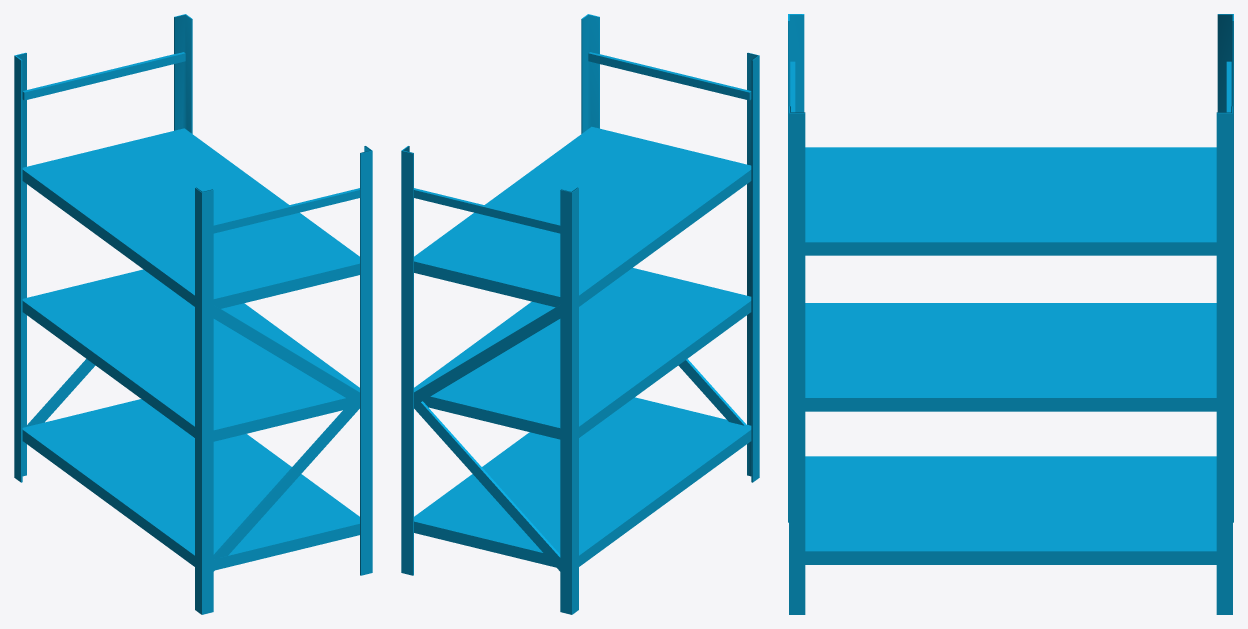
The model's file is Warehouse_Shelf_02B_Lod0.fbx.
The picture shows the model from 3 angles, left to right: view 1: azimuth 30°, elevation 25°; view 2: azimuth 150°, elevation 25°; view 3: azimuth 270°, elevation 25°; orthographic projection. The views are drawn at different scales.
Parts seen in each view (by area): view 1: Warehouse_Shelf_02B_Lod0; view 2: Warehouse_Shelf_02B_Lod0; view 3: Warehouse_Shelf_02B_Lod0.
Boxes of the visible parts, <box> form: Warehouse_Shelf_02B_Lod0: <box>14,14,372,614</box>; Warehouse_Shelf_02B_Lod0: <box>401,14,759,614</box>; Warehouse_Shelf_02B_Lod0: <box>788,14,1233,614</box>.
Bounding box in the file's own units: 74.65 × 176 × 142.
